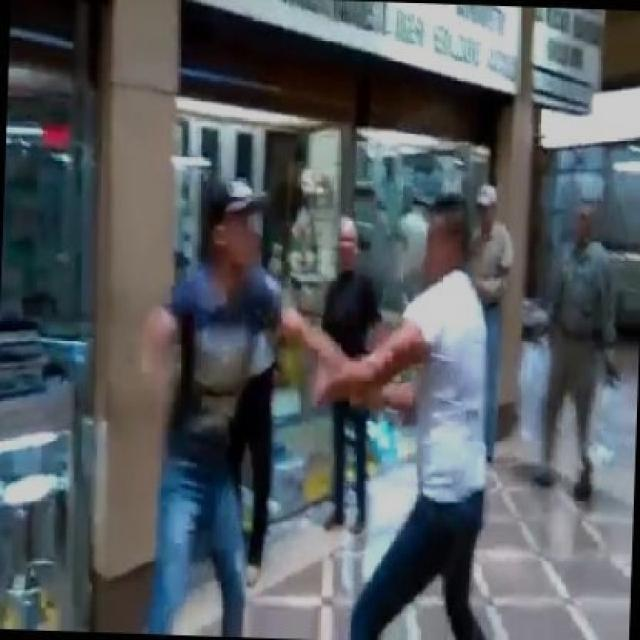fight: (138, 169, 501, 638)
non-fight: (283, 194, 411, 541), (511, 182, 638, 512)
